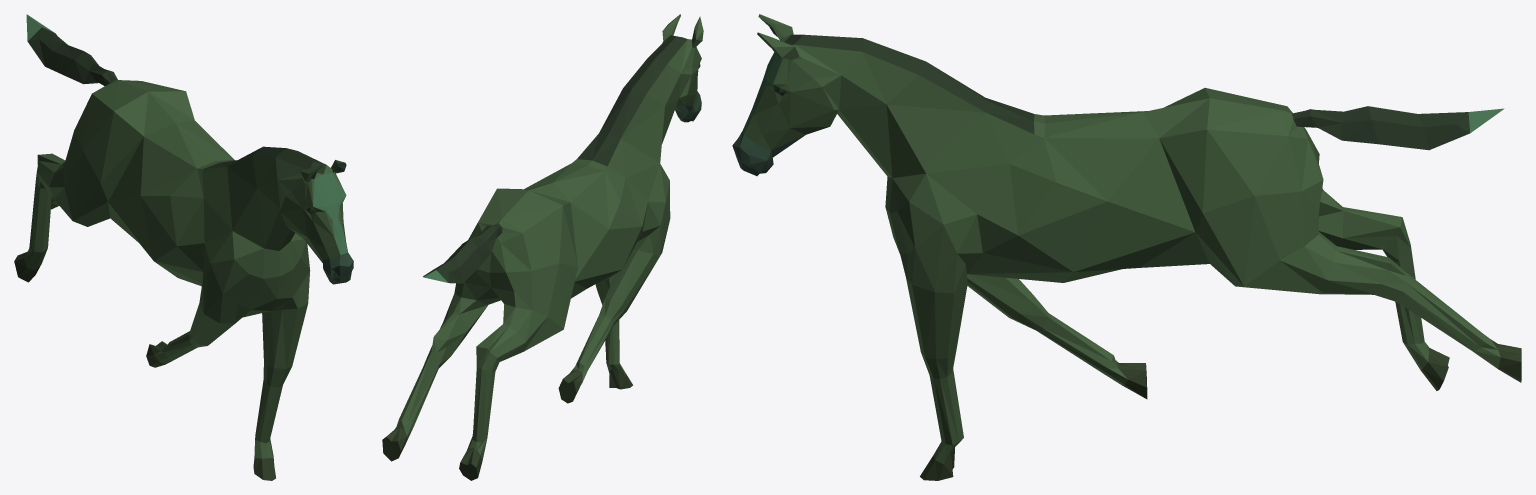
Rendered from Horse.glb.
3 renders of one model, left to right at view 1: azimuth 30°, elevation 25°; view 2: azimuth 150°, elevation 25°; view 3: azimuth 270°, elevation 25°, orthographic. The views are drawn at different scales.
Visible parts, largest first — view 1: mesh_0; view 2: mesh_0; view 3: mesh_0.
Part boxes in pixels (<box>): mesh_0: <box>14,14,353,480</box>; mesh_0: <box>382,14,703,480</box>; mesh_0: <box>732,14,1521,480</box>.
Size of the model in its own units: 63.41 by 193 by 304.
